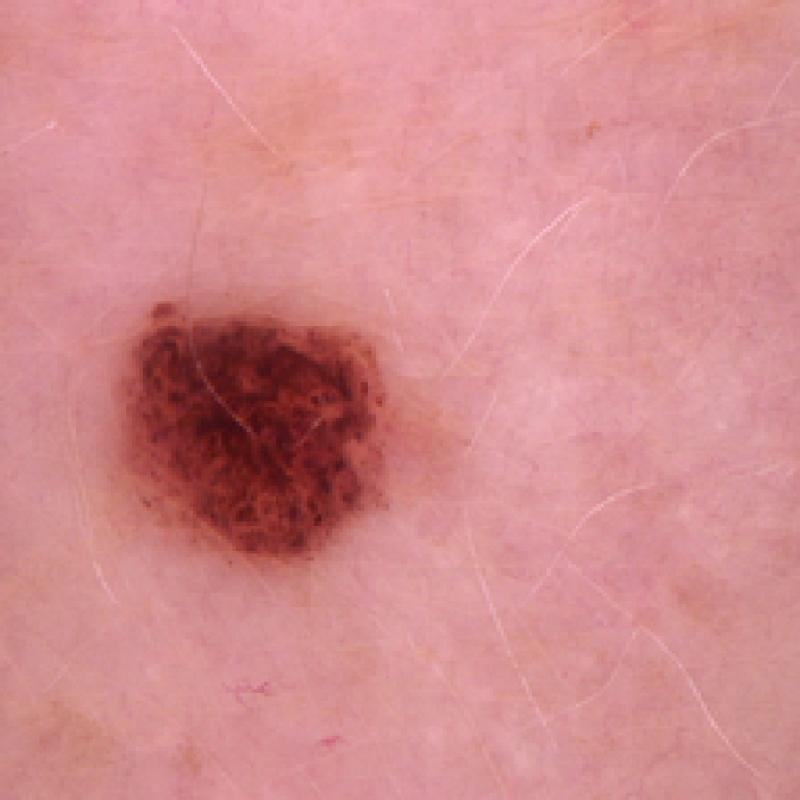benign: (104, 250, 437, 616)
